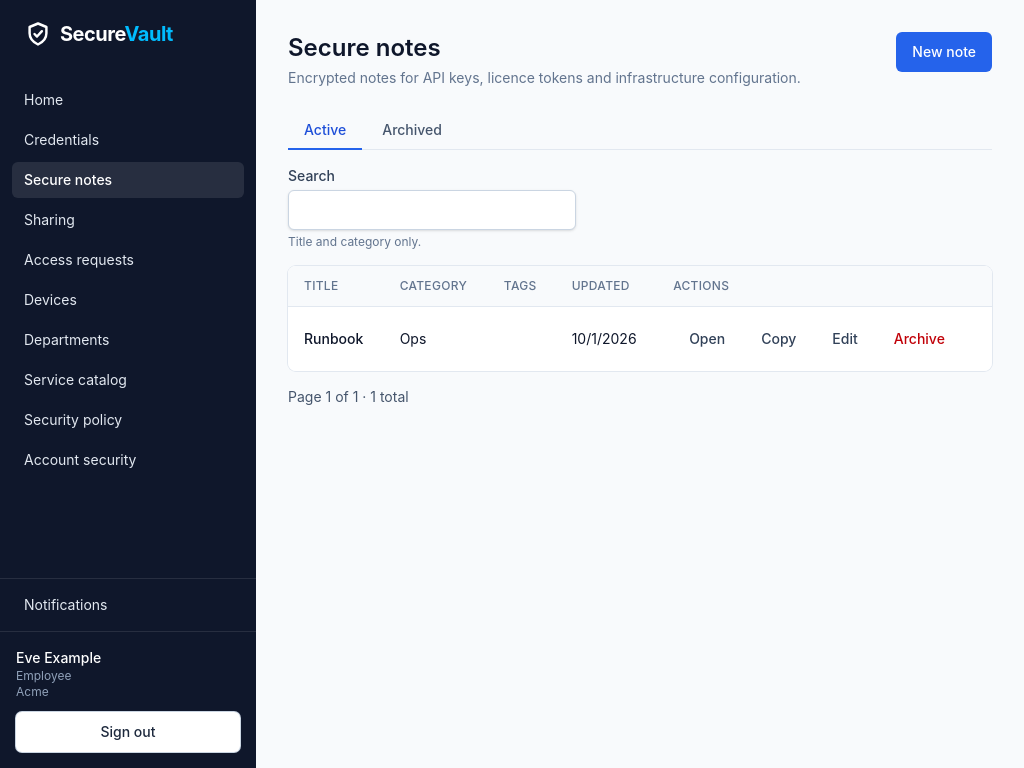
Test case: secure notes › opens note content on click and never lists it
Click the button with aria-label "Open Runbook".
click(707, 339)  # box [673,319,741,359]
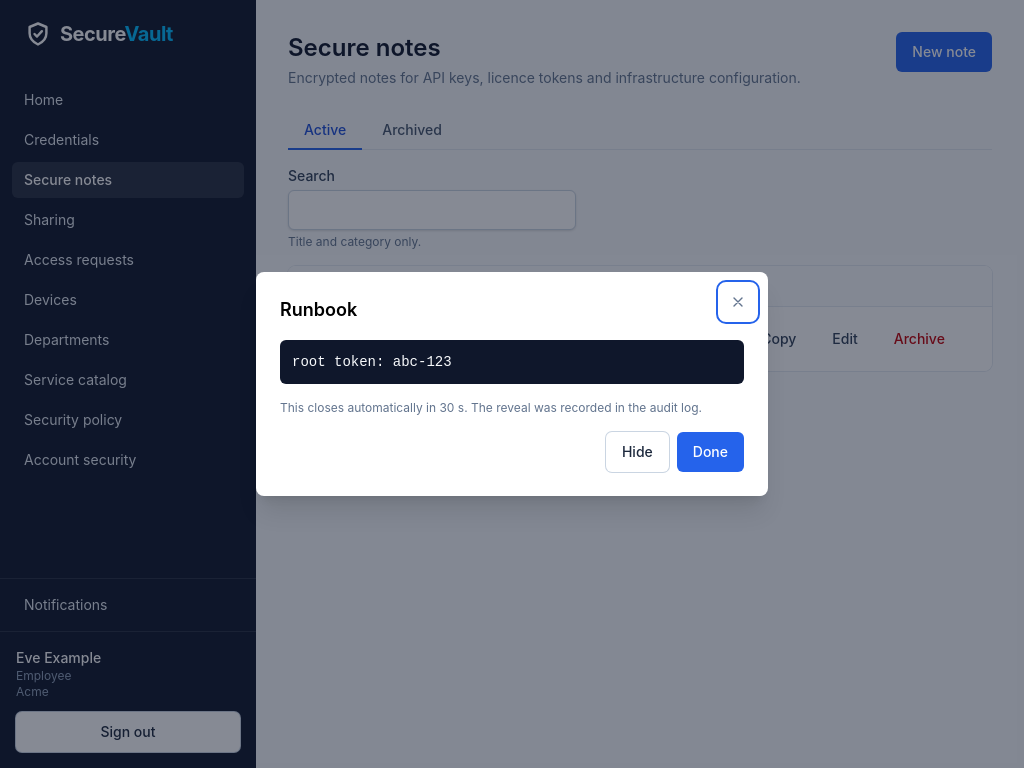
Expected: the text "root token: abc-123" is shown, [280,340,744,384]
